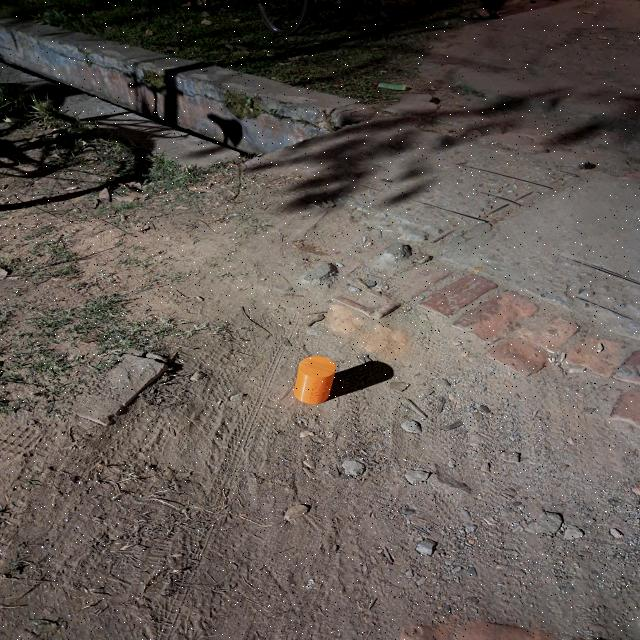Cylinder: (293, 355, 338, 405)
